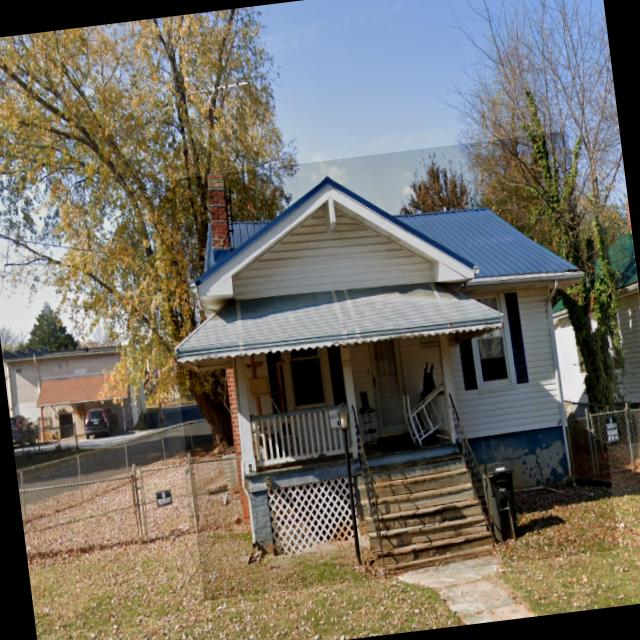House: (153, 130, 619, 600), (543, 232, 640, 450), (2, 340, 151, 445)
